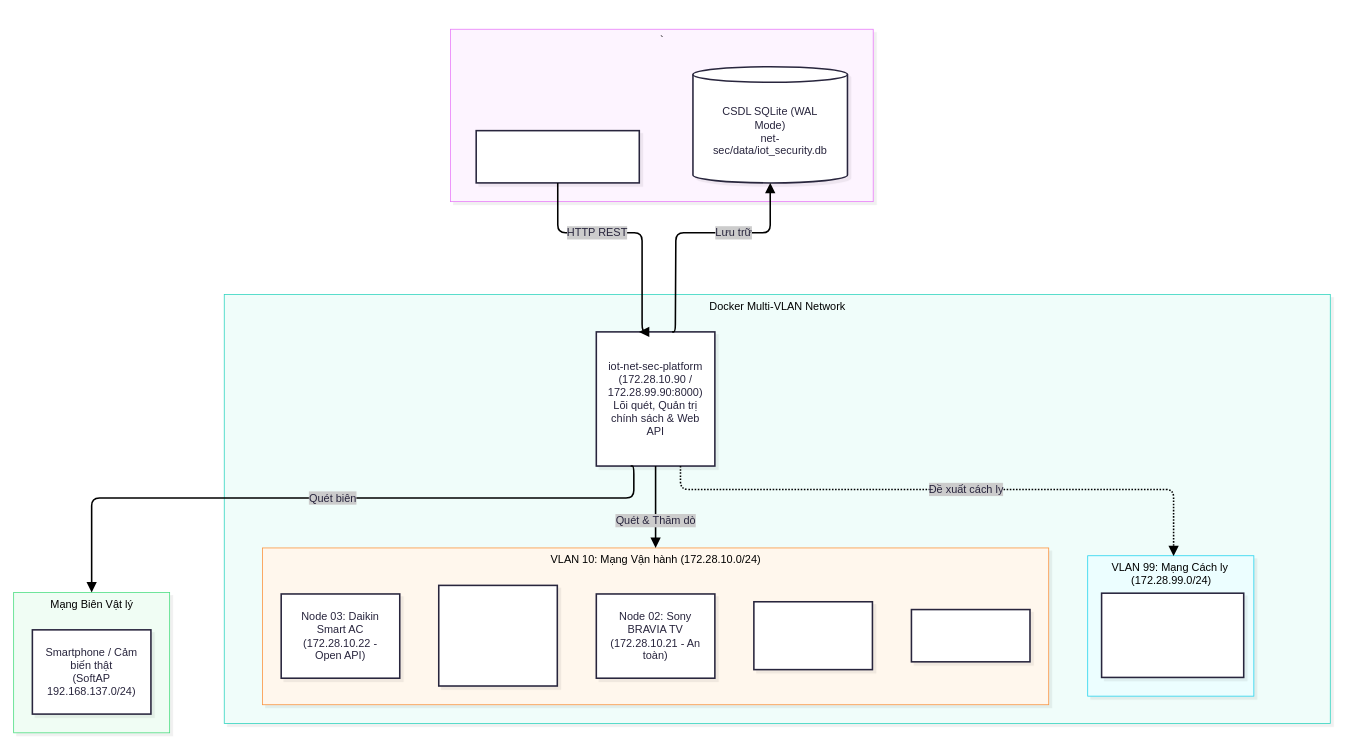
Image size: 1347x750. Some labels were removed from this diagram. Here are the shapes that lost their labels. From the top down, the centre of each, then its label:
the point at 559,157: Trình duyệt Web Dashboard (http://localhost:8000)
the point at 499,637: Node 01: D-Link DCS-932L (172.28.10.20 - Mật khẩu mặc định)
the point at 814,637: Node 04: ProSafe Cam (172.28.10.23 - Hardened)
the point at 972,636: MQTT Mosquitto (172.28.10.10:1883)
the point at 1173,636: Thiết bị bị cô lập (mock-device-quarantine)
